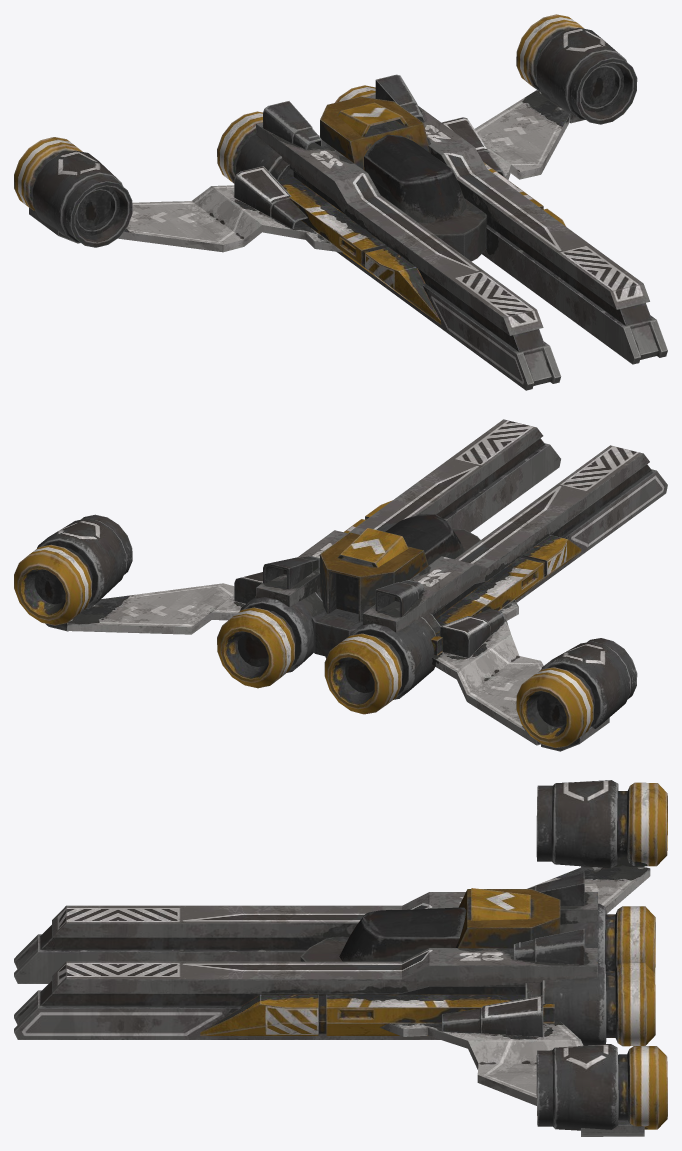
The model's file is executioner_orange.glb.
3 renders of one model, top to bottom at view 1: azimuth 30°, elevation 25°; view 2: azimuth 150°, elevation 25°; view 3: azimuth 270°, elevation 25°, orthographic. The views are drawn at different scales.
Visible parts, largest first — view 1: executioner; view 2: executioner; view 3: executioner.
Part boxes in pixels (x1,y1,x2,y2): executioner: (14,14,667,390); executioner: (14,419,667,751); executioner: (14,780,667,1136).
Size of the model in its own units: 10.02 by 1.85 by 9.2.
1 material, 1 textured.
